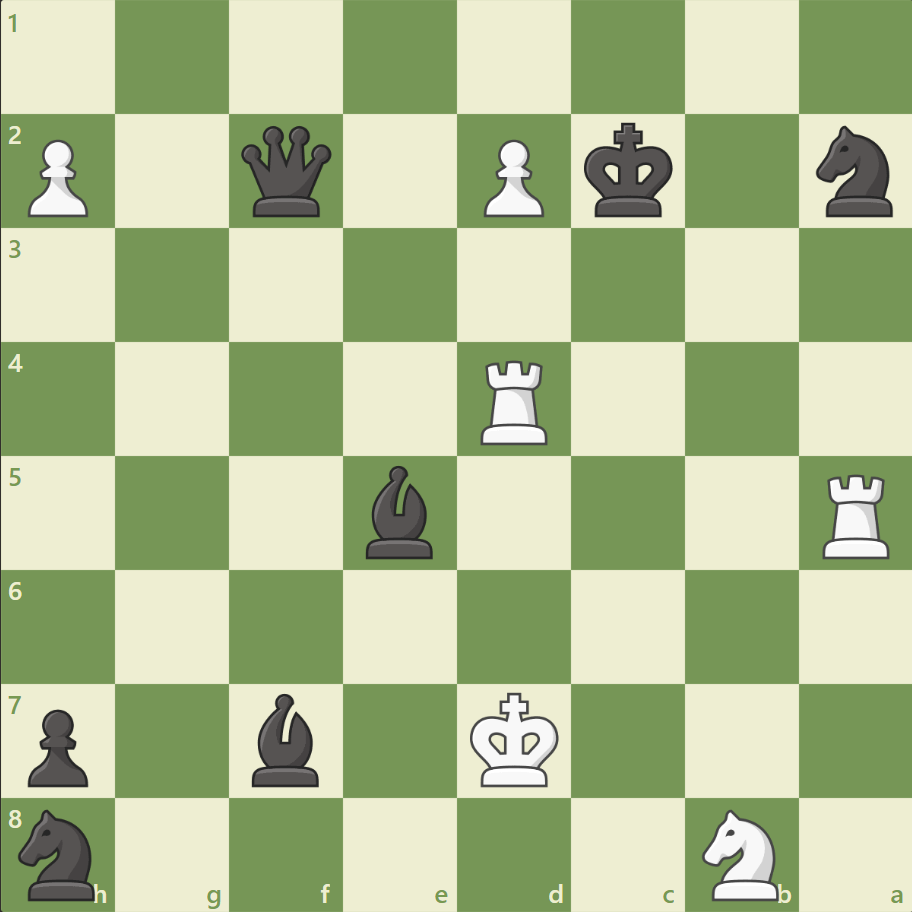K: (465, 685, 565, 793)
N: (692, 802, 789, 904)
P: (474, 132, 549, 223), (20, 132, 95, 223)
R: (814, 466, 897, 563), (473, 352, 556, 449)
b: (244, 687, 328, 790), (358, 460, 442, 563)
k: (579, 117, 679, 225)
n: (11, 802, 108, 904), (806, 121, 903, 223)
p: (20, 700, 95, 791)
q: (237, 122, 336, 222)
